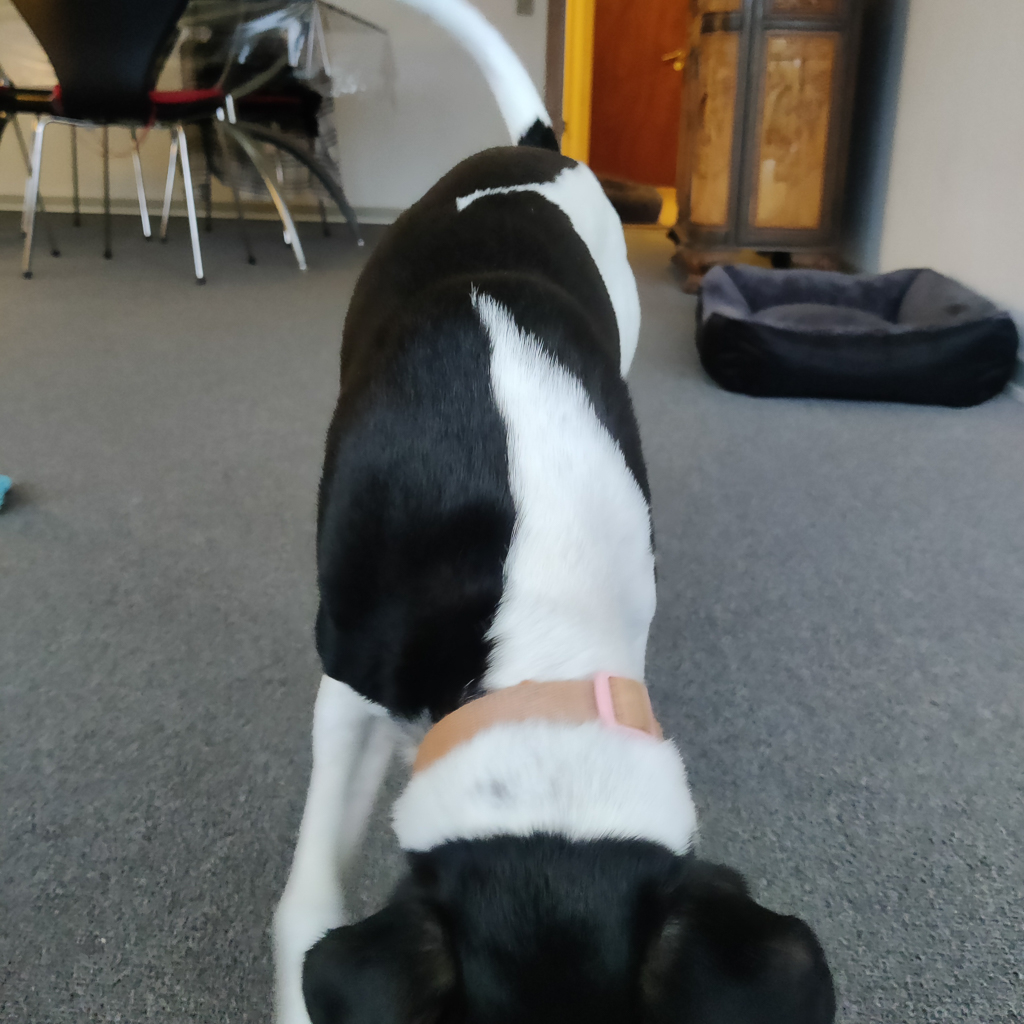Dog: (240, 0, 879, 1024)
